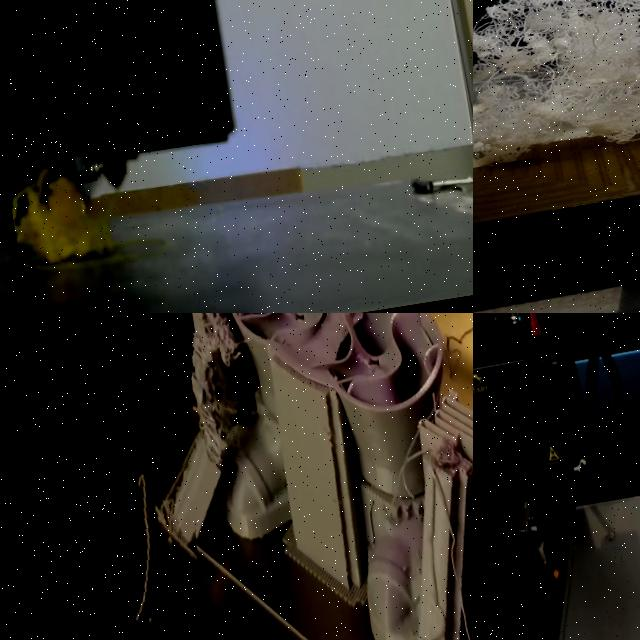spaghetti: (377, 417, 473, 640), (94, 462, 214, 623), (12, 167, 107, 264), (437, 320, 473, 399), (203, 313, 249, 371)
